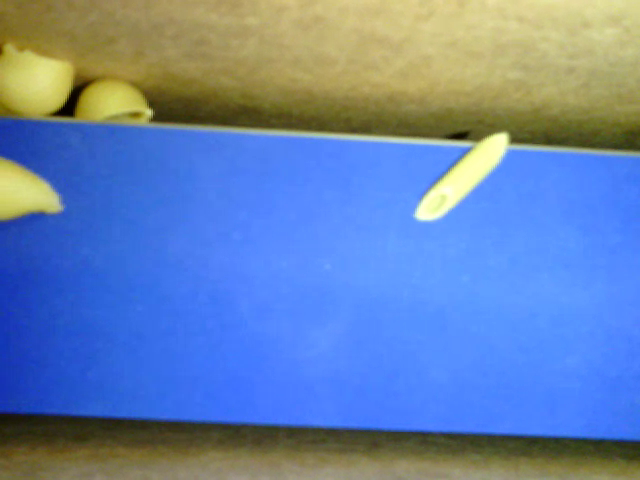penne: (415, 132, 507, 222)
shell: (1, 44, 74, 118), (1, 156, 64, 224), (72, 80, 153, 122)
